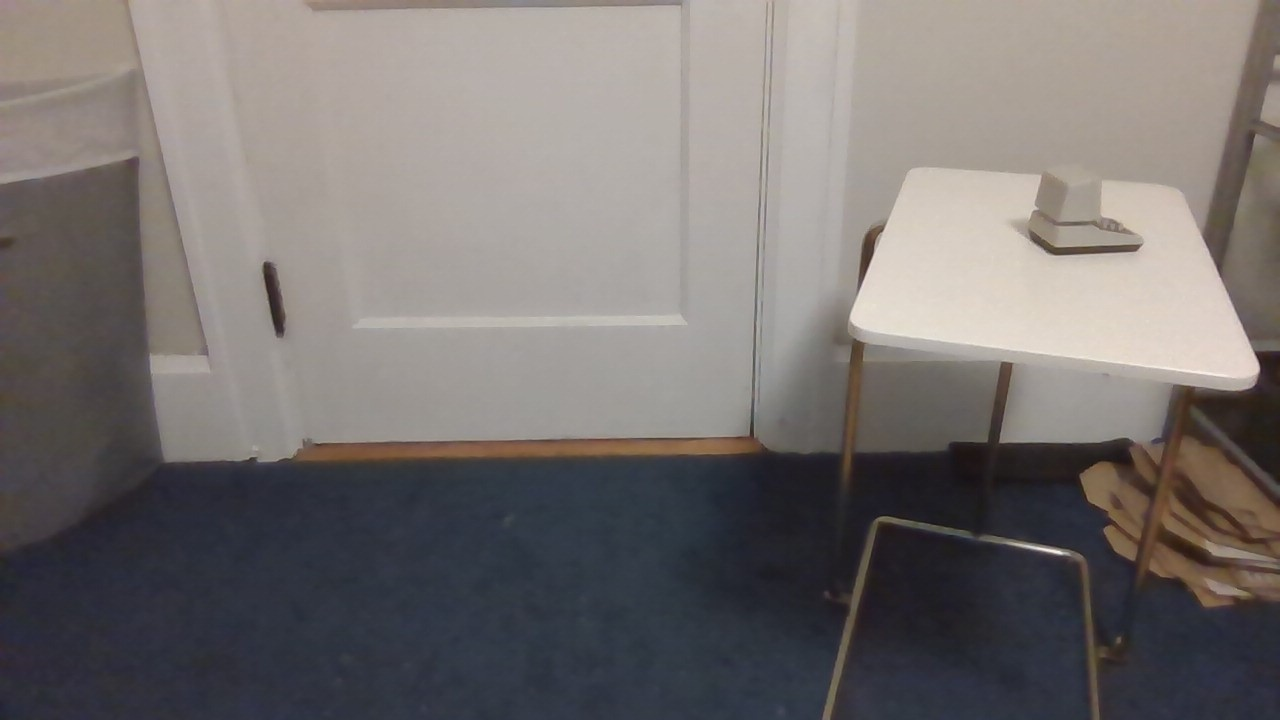Toy: (1016, 150, 1154, 266)
